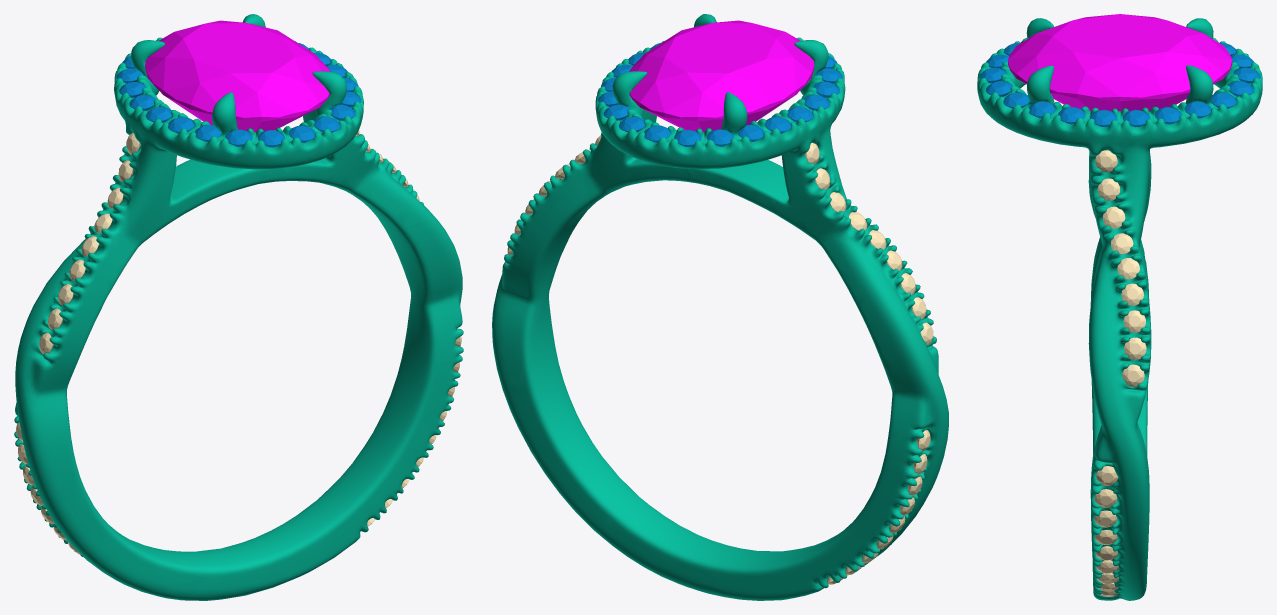
The model's file is BE1M54DH_OV_200ct_RENDER.glb.
The picture shows the model from 3 angles, left to right: view 1: azimuth 30°, elevation 25°; view 2: azimuth 150°, elevation 25°; view 3: azimuth 270°, elevation 25°; orthographic projection.
Visible parts, largest first — view 1: Metal 01, CS_Diamond_Oval; view 2: Metal 01, CS_Diamond_Oval; view 3: Metal 01, CS_Diamond_Oval, Diamond_Round_Gem_SH.028, Diamond_Round_Gem_SH.034, Diamond_Round_Gem_SH.029, Diamond_Round_Gem_SH.035, Diamond_Round_Gem_SH.030, Diamond_Round_Gem_SH.027, Diamond_Round_Gem_SH.033.
Part boxes in pixels (left/top/right/bottom): Metal 01: left=14, top=14, right=463, bottom=600; CS_Diamond_Oval: left=145, top=20, right=330, bottom=132; Metal 01: left=492, top=14, right=948, bottom=600; CS_Diamond_Oval: left=629, top=20, right=814, bottom=132; Metal 01: left=977, top=18, right=1262, bottom=600; CS_Diamond_Oval: left=1008, top=14, right=1232, bottom=111; Diamond_Round_Gem_SH.028: left=1124, top=337, right=1146, bottom=359; Diamond_Round_Gem_SH.034: left=1097, top=178, right=1120, bottom=200; Diamond_Round_Gem_SH.029: left=1123, top=310, right=1145, bottom=332; Diamond_Round_Gem_SH.035: left=1095, top=150, right=1117, bottom=172; Diamond_Round_Gem_SH.030: left=1121, top=283, right=1143, bottom=305; Diamond_Round_Gem_SH.027: left=1122, top=364, right=1144, bottom=386; Diamond_Round_Gem_SH.033: left=1103, top=206, right=1125, bottom=228.
Bounding box in the file's own units: 20.52 × 23.98 × 11.46.
